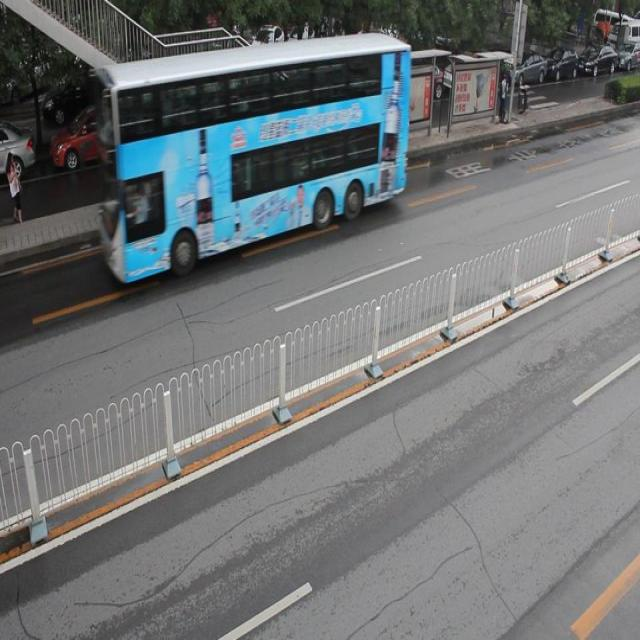car: (49, 105, 136, 172), (144, 92, 235, 147), (314, 62, 390, 121), (240, 95, 302, 163), (242, 72, 308, 130), (1, 126, 36, 181)
van: (95, 28, 410, 286)
